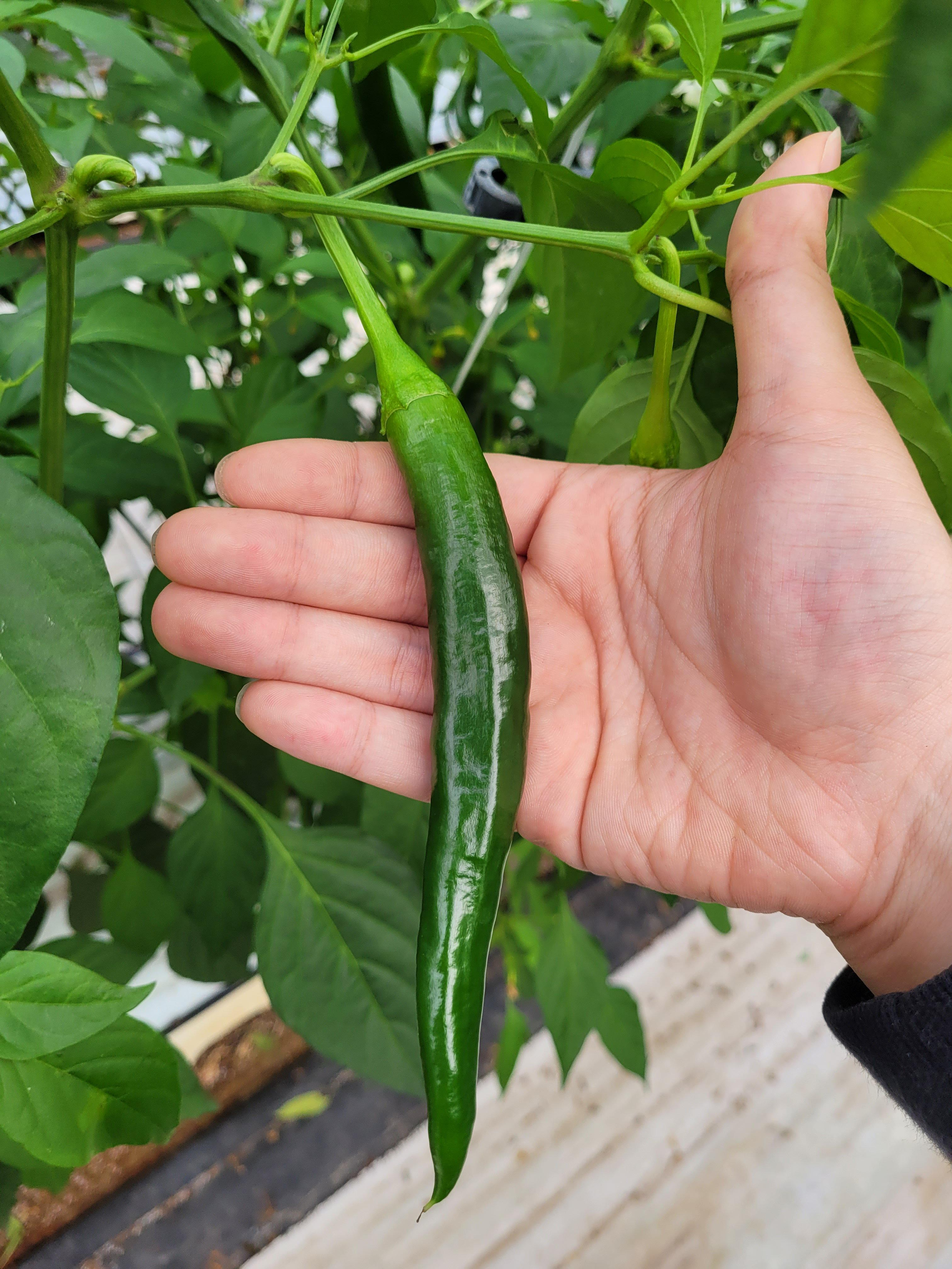Buah Cabai Sehat: (372, 358, 534, 1218)
